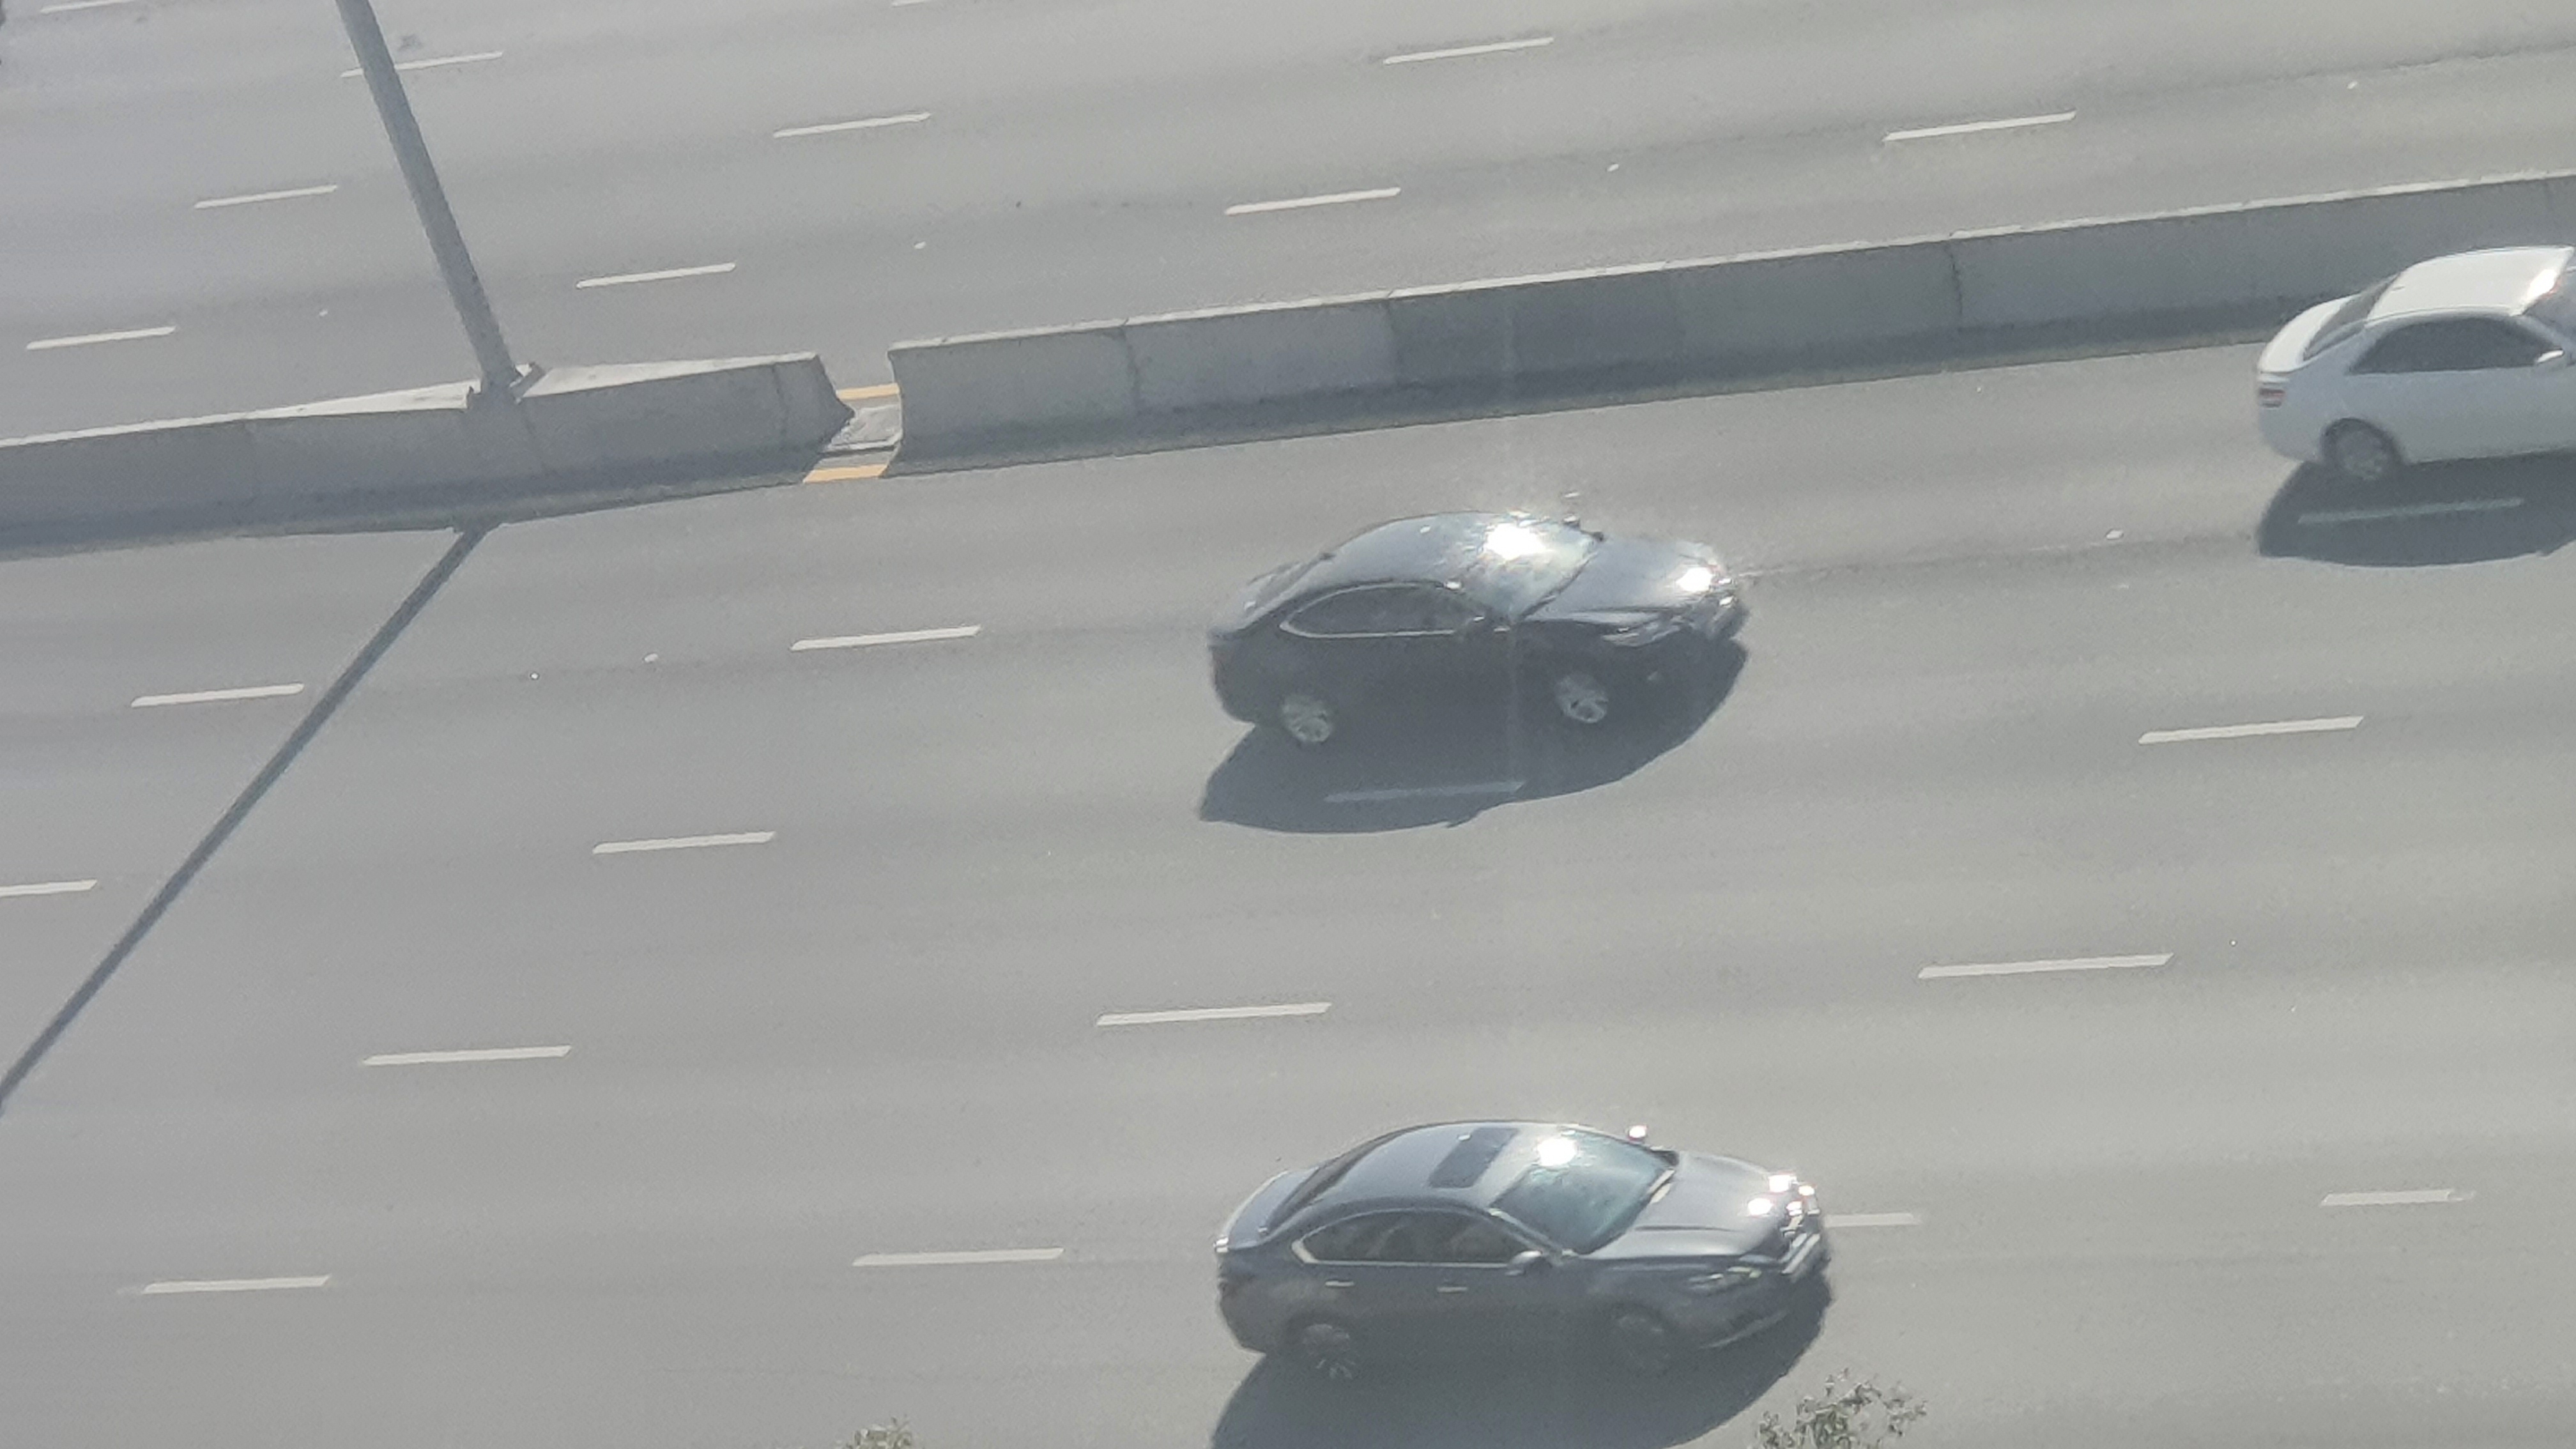NotSunroof: (1198, 506, 1755, 747), (2250, 248, 2576, 485)
Sunroof: (1198, 1118, 1831, 1403)
